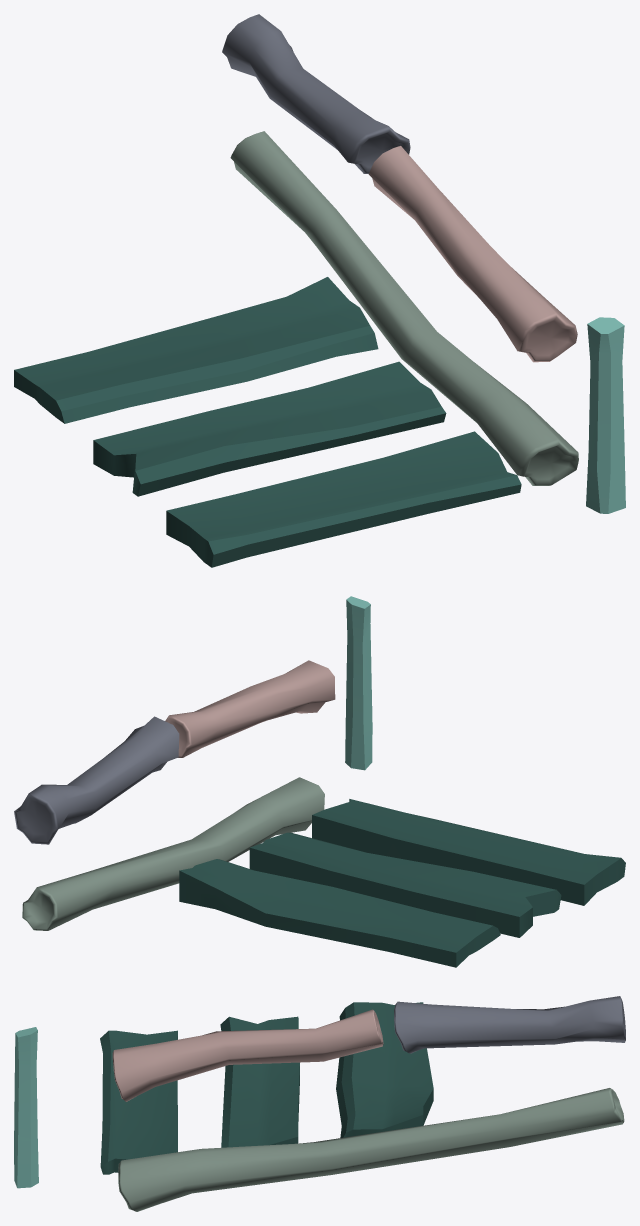
Rendered from WoodenStairs_Lowpoly.fbx.
3 views of the same model, one above another, from view 1: azimuth 30°, elevation 25°; view 2: azimuth 150°, elevation 25°; view 3: azimuth 270°, elevation 25° (orthographic). The views are drawn at different scales.
Visible parts, largest first — view 1: Plank3_LP, Plank1_LP, Plank2_LP, LongWood_LP, MediumWood_LP, SmallWood_LP, Stick_LP; view 2: Plank3_LP, Plank2_LP, Plank1_LP, LongWood_LP, SmallWood_LP, MediumWood_LP, Stick_LP; view 3: LongWood_LP, MediumWood_LP, SmallWood_LP, Plank3_LP, Plank2_LP, Plank1_LP, Stick_LP.
Boxes of the visible parts, left/top/right/bottom form: Plank3_LP: left=14, top=277, right=378, bottom=423; Plank1_LP: left=166, top=431, right=521, bottom=567; Plank2_LP: left=93, top=361, right=446, bottom=496; LongWood_LP: left=230, top=131, right=578, bottom=485; MediumWood_LP: left=368, top=146, right=577, bottom=362; SmallWood_LP: left=222, top=14, right=410, bottom=173; Stick_LP: left=586, top=317, right=625, bottom=513; Plank3_LP: left=179, top=859, right=500, bottom=967; Plank2_LP: left=249, top=832, right=561, bottom=937; Plank1_LP: left=312, top=799, right=625, bottom=905; LongWood_LP: left=22, top=777, right=324, bottom=930; SmallWood_LP: left=14, top=716, right=179, bottom=844; MediumWood_LP: left=165, top=660, right=335, bottom=757; Stick_LP: left=345, top=596, right=372, bottom=770; LongWood_LP: left=118, top=1088, right=624, bottom=1211; MediumWood_LP: left=112, top=1009, right=383, bottom=1101; SmallWood_LP: left=394, top=996, right=625, bottom=1053; Plank3_LP: left=336, top=1002, right=433, bottom=1137; Plank2_LP: left=220, top=1016, right=299, bottom=1147; Plank1_LP: left=100, top=1030, right=177, bottom=1174; Stick_LP: left=14, top=1027, right=38, bottom=1188.
Size of the model in its own units: 3.72 by 2.36 by 6.17.
